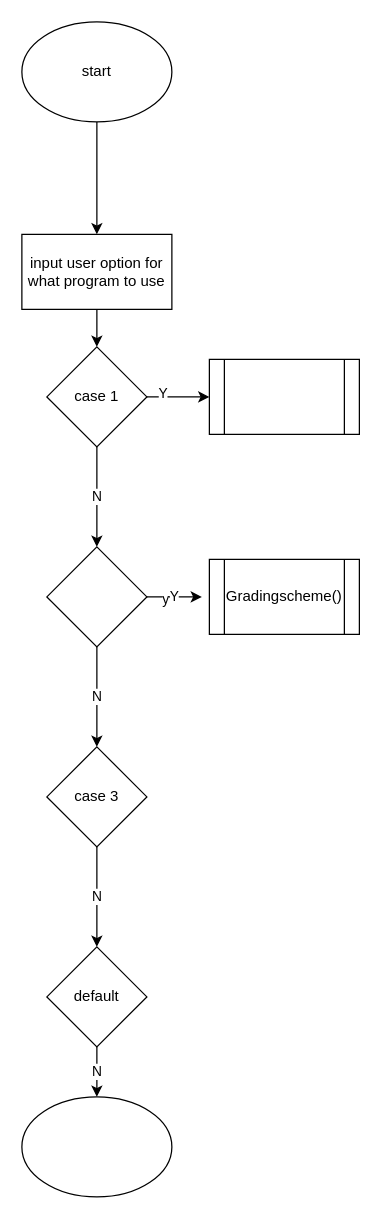
Image size: 381x1219. Some labels were removed from this diagram. The shapes that lost their labels are listed below. From the top down, each one's centre as x and y in pixels, then its label:
the point at 283,396: GPACalc()
the point at 96,596: case 2
the point at 96,1146: end program
